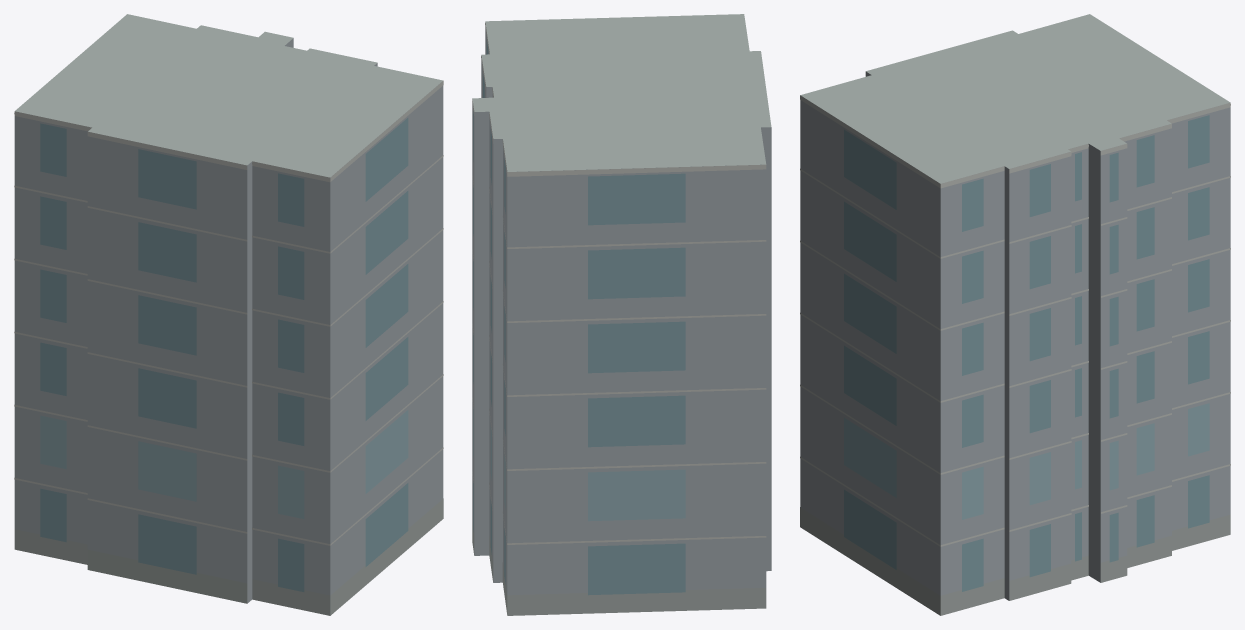
The model's file is survey-upis-32735184.glb.
3 renders of one model, left to right at view 1: azimuth 30°, elevation 25°; view 2: azimuth 150°, elevation 25°; view 3: azimuth 270°, elevation 25°, orthographic. The views are drawn at different scales.
Parts seen in each view (by area): view 1: survey-upis-32735184.tmp; view 2: survey-upis-32735184.tmp; view 3: survey-upis-32735184.tmp.
Boxes of the visible parts, bbox=[...] form: survey-upis-32735184.tmp: bbox=[14, 14, 443, 615]; survey-upis-32735184.tmp: bbox=[472, 14, 771, 615]; survey-upis-32735184.tmp: bbox=[800, 14, 1230, 615].
Size of the model in its own units: 19.12 by 22.65 by 20.48.
